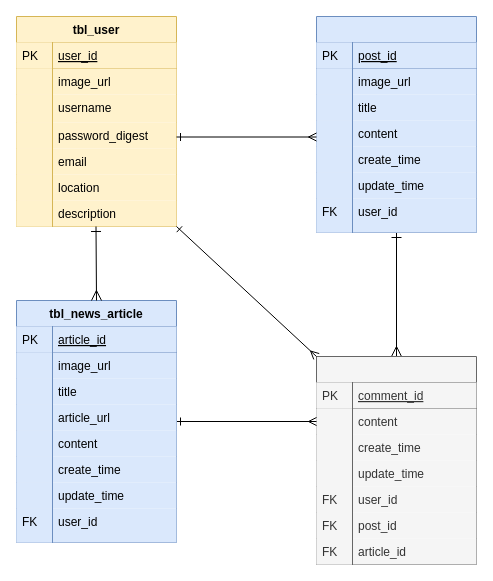
This 493x581 diagram has some shape labels left out. The shapes that lost their labels are listed below. From the top down, each one's box as (x1, y1, x2, y2) in pixels, then its label:
(316, 16, 476, 232): tbl_blog_post
(316, 356, 476, 564): tbl_comment
